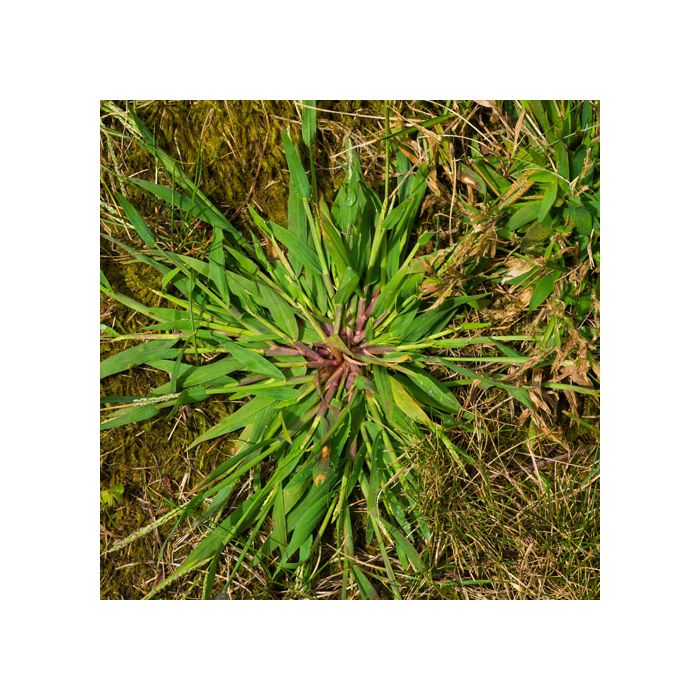crabgrass: (123, 158, 580, 597)
